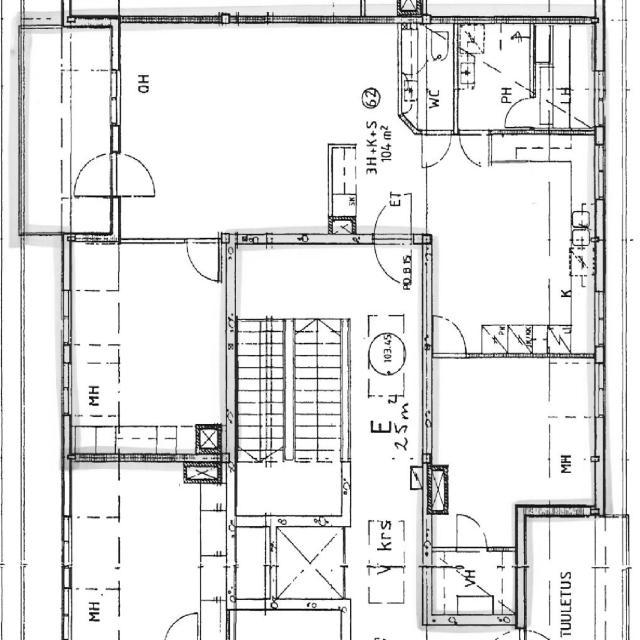door: (432, 513, 512, 617), (114, 147, 160, 198), (374, 196, 412, 252), (74, 150, 114, 197), (372, 234, 407, 284), (185, 238, 223, 284), (432, 312, 469, 357), (454, 510, 489, 552), (161, 607, 201, 640), (458, 129, 488, 168), (421, 132, 453, 168), (502, 96, 536, 129)
window: (106, 51, 126, 129)
zone: (426, 162, 574, 354), (119, 468, 199, 640), (527, 515, 605, 640), (460, 23, 534, 131), (534, 23, 595, 130), (401, 26, 456, 134), (429, 550, 516, 618), (272, 524, 346, 600), (68, 348, 120, 429), (230, 609, 345, 640), (235, 521, 274, 608), (69, 461, 120, 518), (22, 0, 63, 30)
